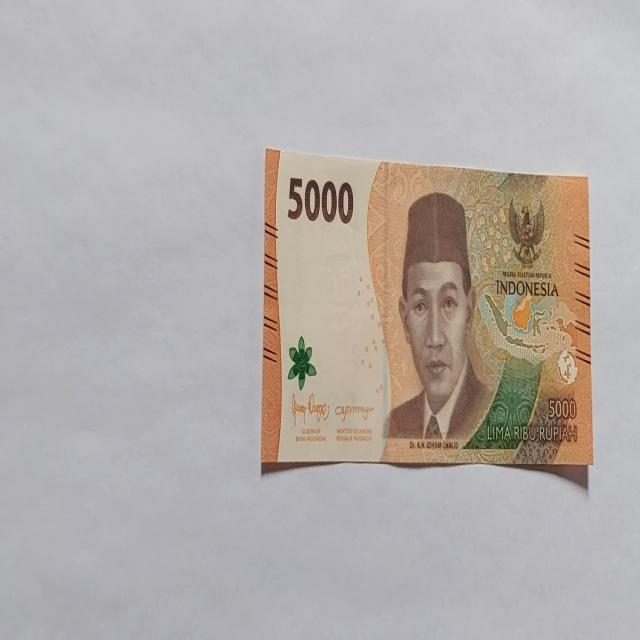lima ribu rupiah: (261, 146, 592, 474), (382, 190, 494, 449)
